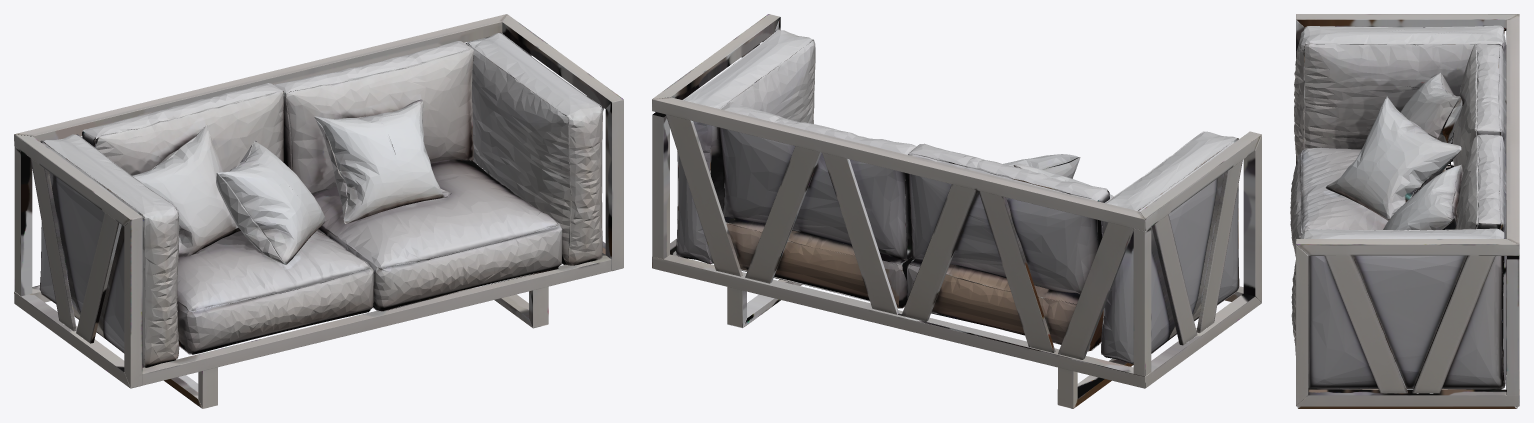
The model's file is edited_mesh.glb.
3 renders of one model, left to right at view 1: azimuth 30°, elevation 25°; view 2: azimuth 150°, elevation 25°; view 3: azimuth 270°, elevation 25°, orthographic. The views are drawn at different scales.
Visible parts, largest first — view 1: solid_001_wire; view 2: solid_001_wire; view 3: solid_001_wire.
Boxes of the visible parts, x1,y1,x2,y2 form: solid_001_wire: (14, 14, 623, 408); solid_001_wire: (652, 14, 1261, 408); solid_001_wire: (1290, 14, 1519, 408).
Bounding box in the file's own units: 2 × 0.8164 × 0.8409.
Materials: 1 (1 with a texture image).
